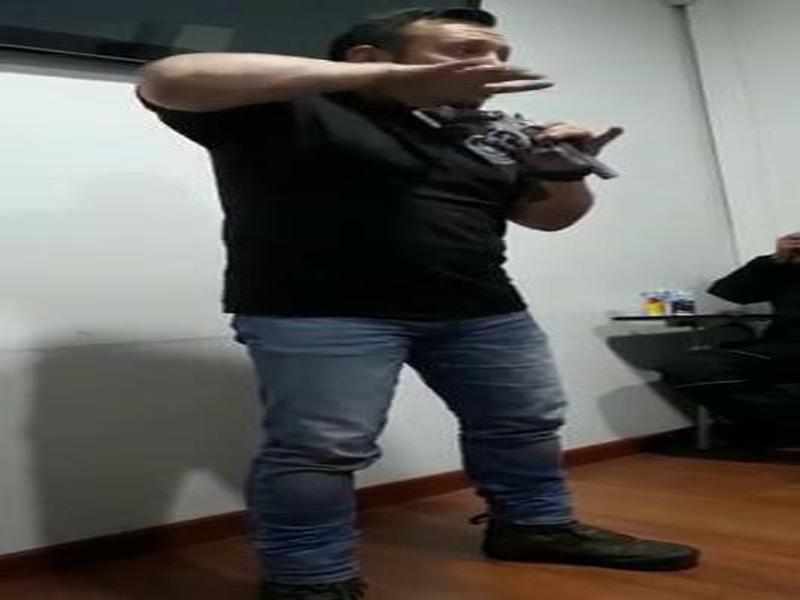Revolver: (427, 84, 622, 213)
